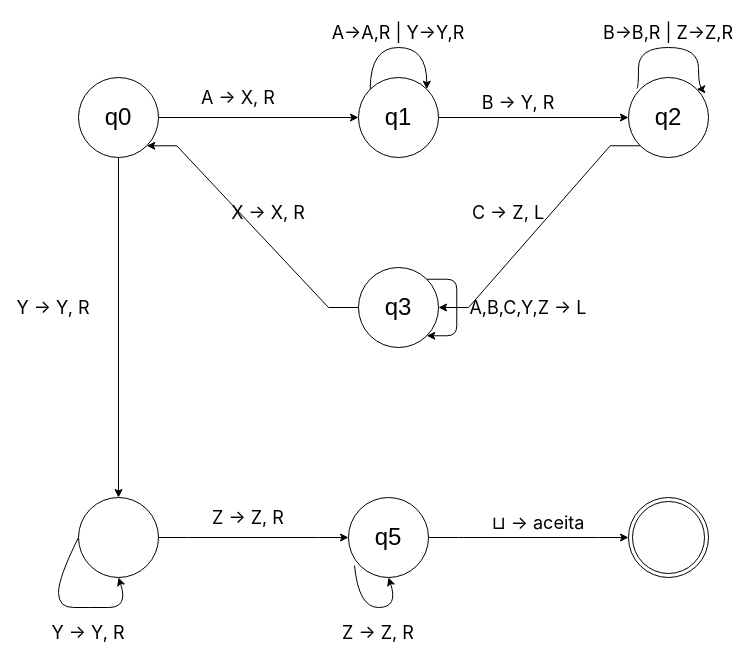
Some shapes in this 751 by 664 pixel diagram are drawn without their labels. The centre of each missing label's shape, as x and y in pixels:
q4: (118,537)
qa: (668,537)
